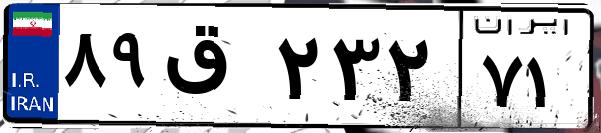1: (525, 38, 570, 115)
2: (270, 28, 330, 110), (385, 28, 445, 110)
3: (330, 28, 385, 110)
7: (475, 38, 525, 113)
8: (57, 26, 110, 100)
9: (110, 28, 158, 98)
ق: (158, 20, 270, 120)
